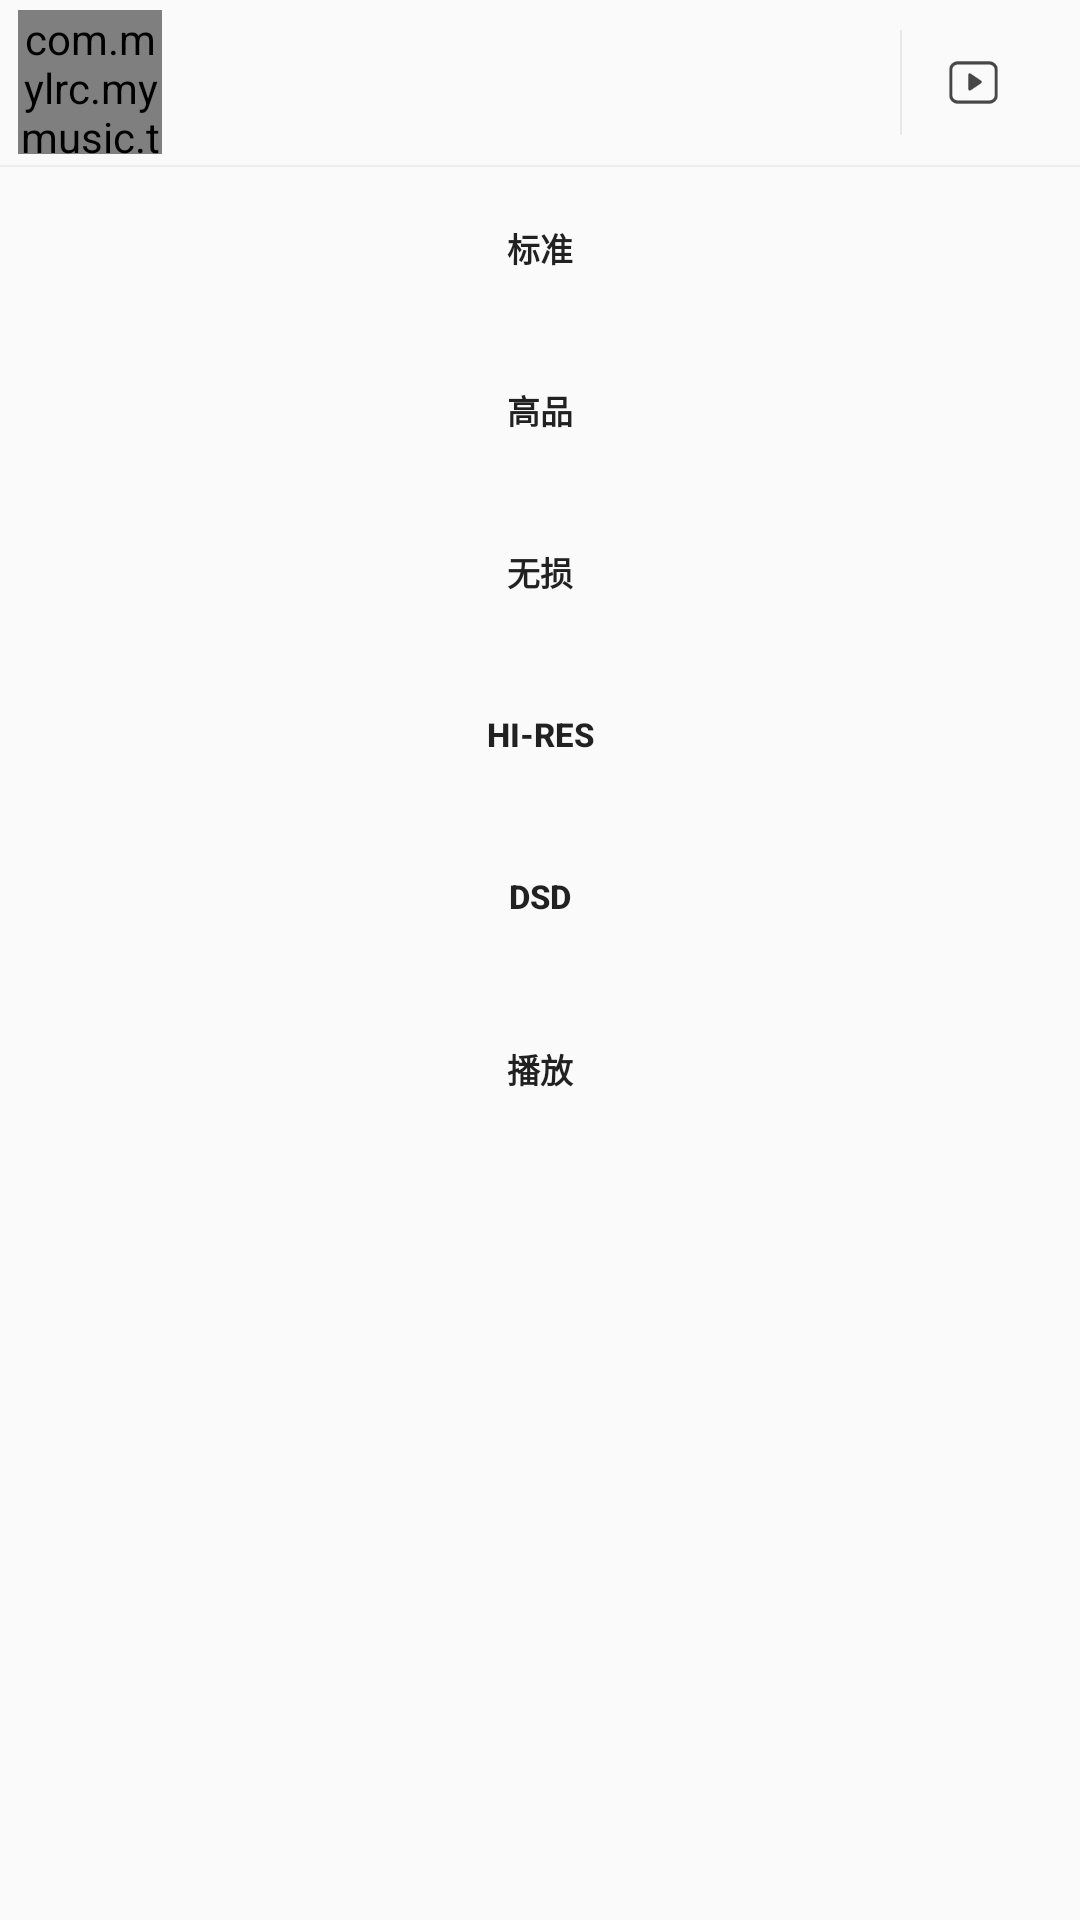

Where icons sit on this 1080 x 1920 app screen, as (x1, y1, x2, y2):
play video: (949, 61, 998, 104)
